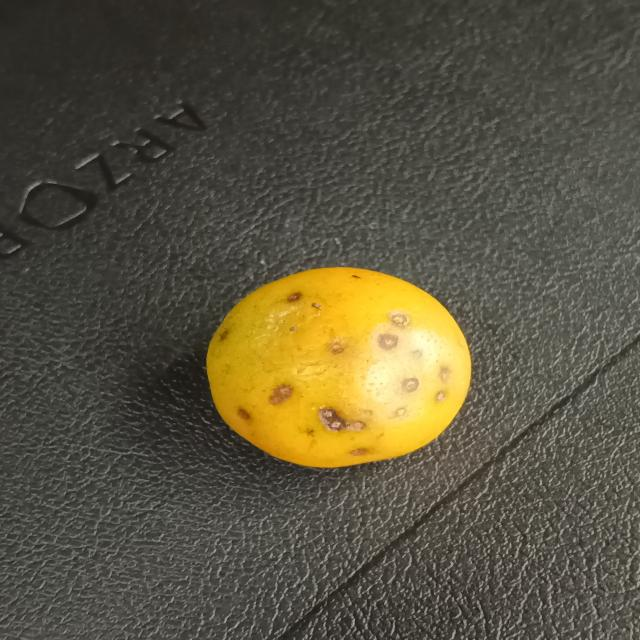black spot: (204, 266, 484, 476)
